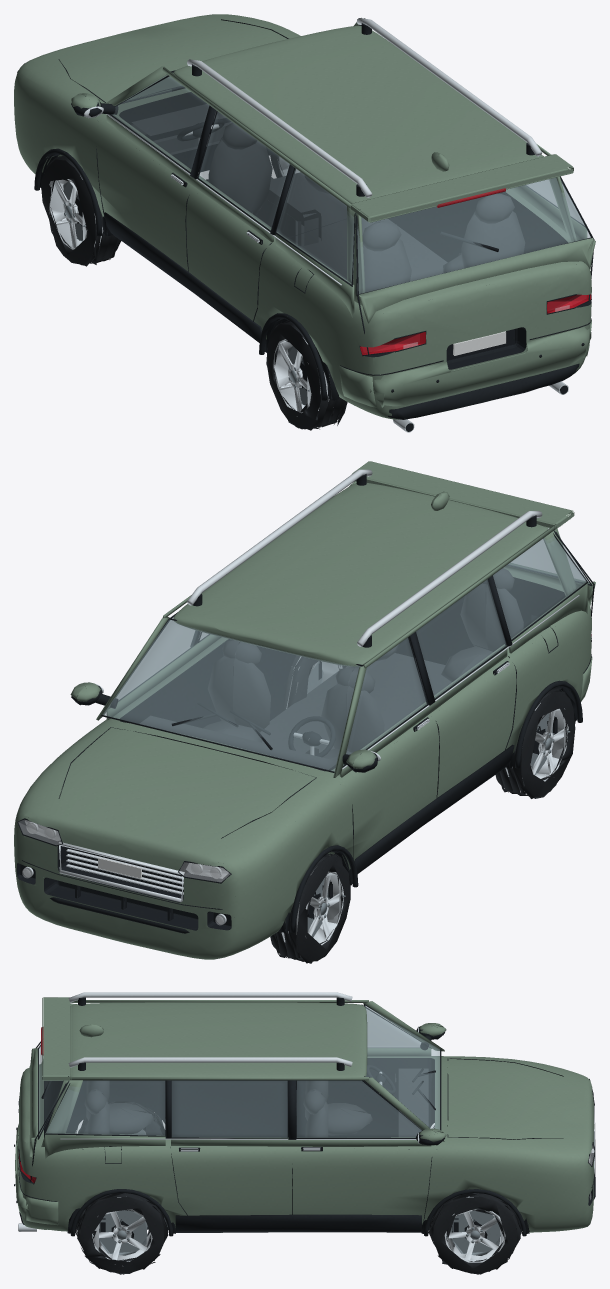
Rendered from crossover.glb.
3 renders of one model, top to bottom at view 1: azimuth 30°, elevation 25°; view 2: azimuth 150°, elevation 25°; view 3: azimuth 270°, elevation 25°, orthographic. The views are drawn at different scales.
Visible parts, largest first — view 1: innerscene-crossover-selective; view 2: innerscene-crossover-selective; view 3: innerscene-crossover-selective.
Boxes of the visible parts, bbox=[...] form: innerscene-crossover-selective: bbox=[14, 14, 595, 432]; innerscene-crossover-selective: bbox=[14, 461, 595, 963]; innerscene-crossover-selective: bbox=[14, 992, 595, 1274].
Bounding box in the file's own units: 2.24 × 1.84 × 4.76.
10 materials, 10 textured.
